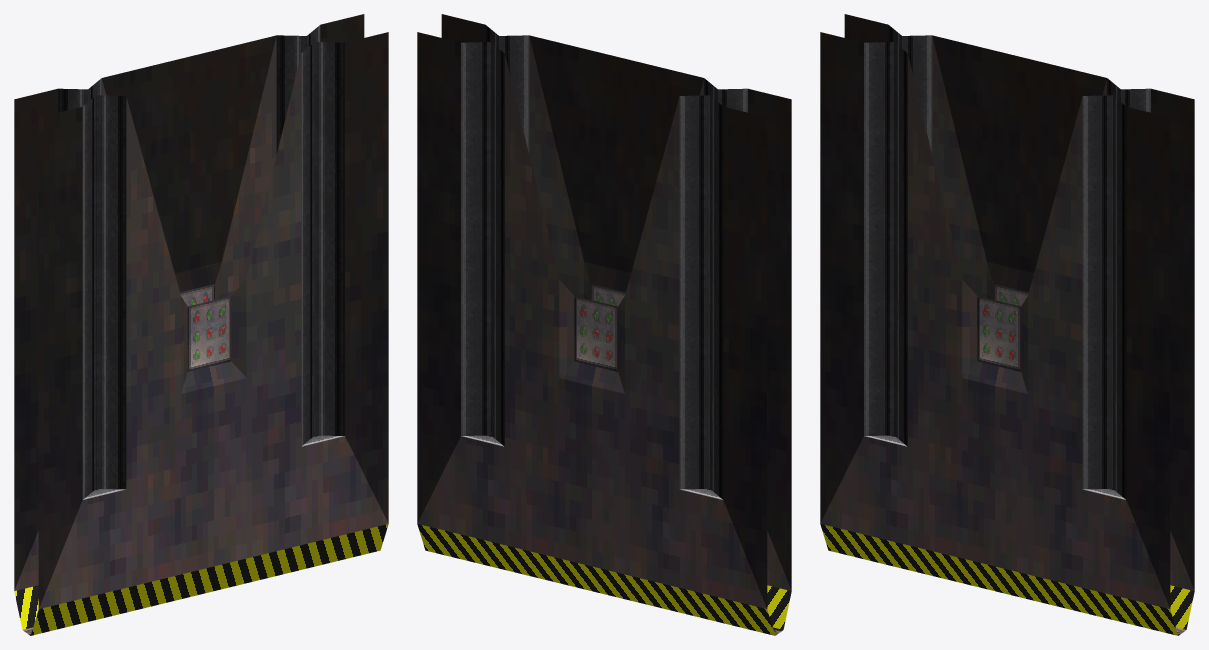
Rendered from primary_140.glb.
3 views of the same model, side by side, from view 1: azimuth 30°, elevation 25°; view 2: azimuth 150°, elevation 25°; view 3: azimuth 330°, elevation 25° (orthographic).
Parts seen in each view (by area): view 1: Object; view 2: Object; view 3: Object.
Boxes of the visible parts, x1,y1,x2,y2 form: Object: [14, 14, 388, 635]; Object: [417, 14, 791, 635]; Object: [820, 14, 1194, 635].
Size of the model in its own units: 1.68 by 2.4 by 0.204.
7 materials, 7 textured.
